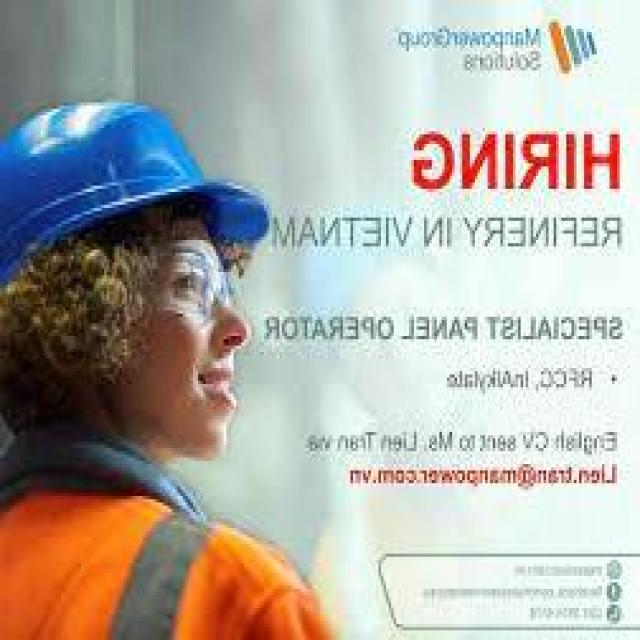Reflective-Jacket: (0, 438, 356, 640)
Safety-Helmet: (0, 90, 282, 304)
